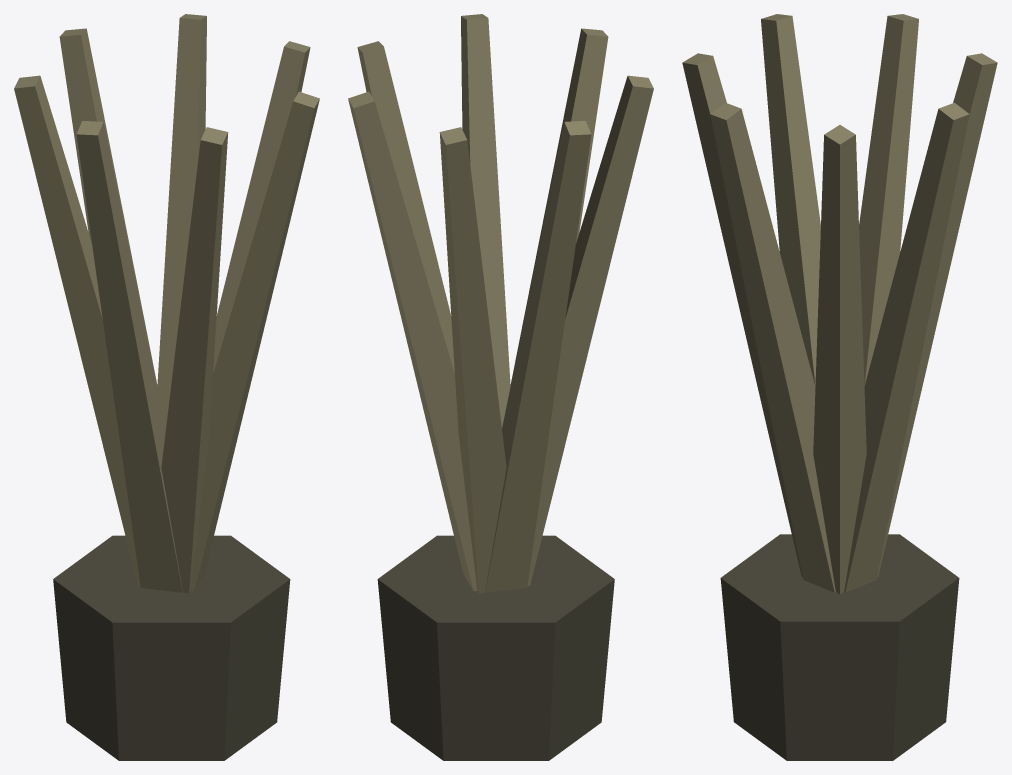
The model's file is rice_bundle.glb.
The picture shows the model from 3 angles, left to right: view 1: azimuth 30°, elevation 25°; view 2: azimuth 150°, elevation 25°; view 3: azimuth 270°, elevation 25°; orthographic projection.
Visible parts, largest first — view 1: rice_bundle; view 2: rice_bundle; view 3: rice_bundle.
Boxes of the visible parts, x1,y1,x2,y2 form: rice_bundle: (14,14,319,760); rice_bundle: (348,14,653,760); rice_bundle: (682,14,997,760).
Size of the model in its own units: 0.1162 by 0.2715 by 0.1189.
Materials: 1 (1 with a texture image).
